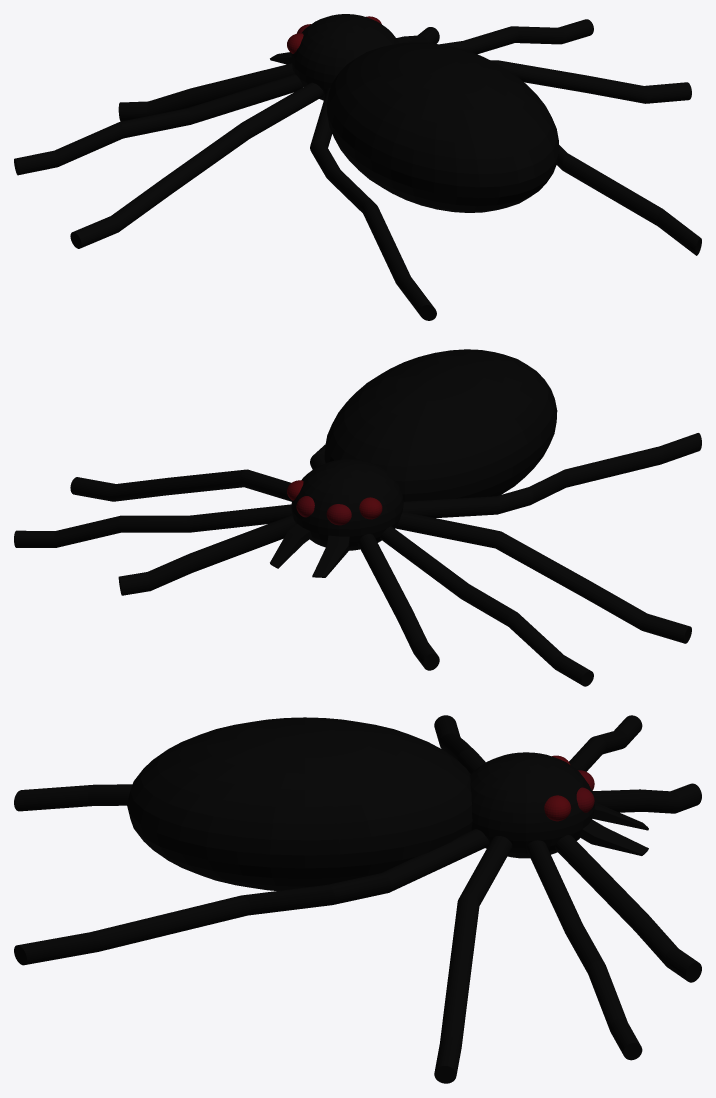
Rendered from Spider.glb.
3 renders of one model, top to bottom at view 1: azimuth 30°, elevation 25°; view 2: azimuth 150°, elevation 25°; view 3: azimuth 270°, elevation 25°, orthographic. The views are drawn at different scales.
Parts seen in each view (by area): view 1: Sphere.003, Cylinder.001, Cylinder.003, Cylinder, Sphere, Cylinder.002; view 2: Sphere.003, Cylinder.001, Cylinder.003, Sphere, Cylinder.002, Cylinder, Sphere.001, Sphere.002; view 3: Sphere.003, Cylinder, Sphere, Cylinder.001, Cylinder.002, Cylinder.003, Sphere.002.
Part boxes in pixels (x1,y1,x2,y2): Sphere.003: [326, 42, 559, 212]; Cylinder.001: [70, 60, 691, 248]; Cylinder.003: [14, 19, 593, 175]; Cylinder: [310, 87, 701, 320]; Sphere: [270, 14, 399, 100]; Cylinder.002: [118, 27, 439, 121]; Sphere.003: [324, 349, 557, 501]; Cylinder.001: [70, 469, 691, 643]; Cylinder.003: [14, 504, 593, 686]; Sphere: [270, 459, 403, 577]; Cylinder.002: [118, 515, 439, 670]; Cylinder: [310, 433, 701, 518]; Sphere.001: [296, 496, 351, 525]; Sphere.002: [287, 480, 382, 519]; Sphere.003: [127, 717, 472, 890]; Cylinder: [14, 784, 489, 965]; Sphere: [470, 752, 648, 858]; Cylinder.001: [434, 715, 512, 1083]; Cylinder.002: [555, 783, 701, 982]; Cylinder.003: [526, 715, 642, 1060]; Sphere.002: [544, 755, 571, 821].
Size of the model in its own units: 4 by 0.9383 by 3.32.
